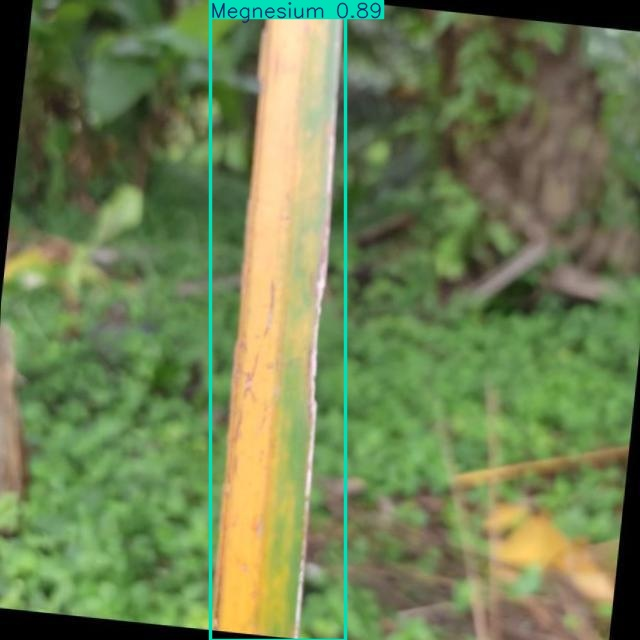Megnesium: (211, 0, 346, 640)
